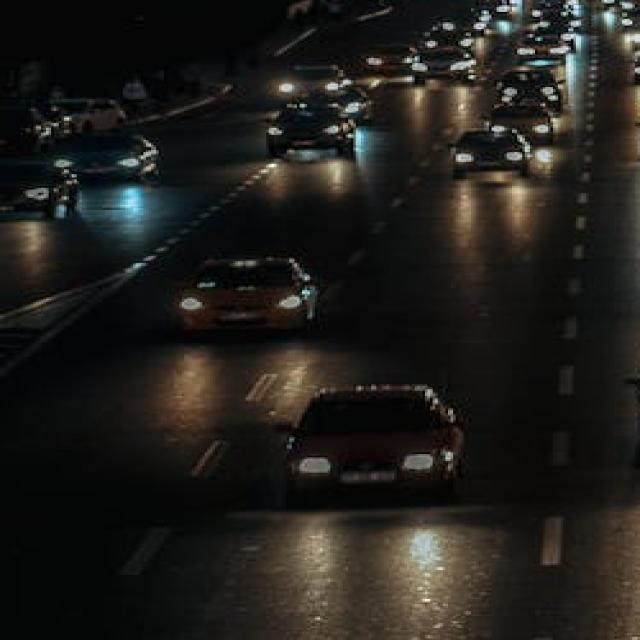car: (284, 386, 472, 512), (175, 252, 323, 340), (45, 133, 158, 184), (270, 108, 355, 162), (446, 130, 532, 176), (52, 98, 125, 134), (493, 104, 558, 140), (632, 335, 640, 459), (635, 49, 640, 82)
